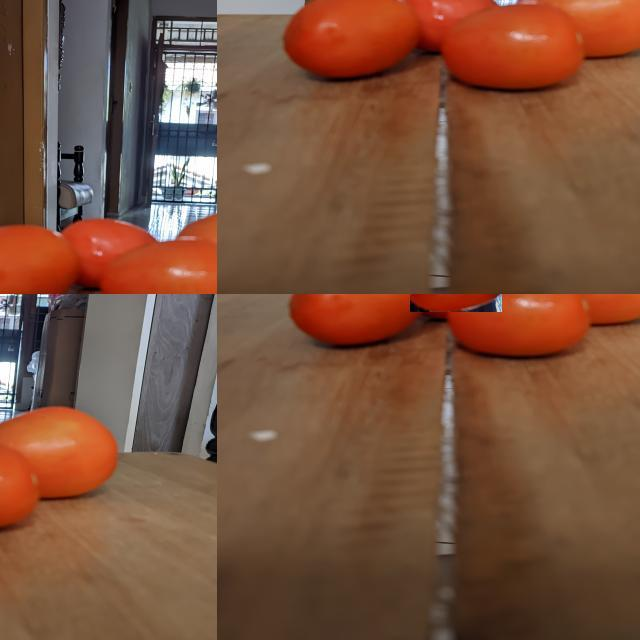Fresh Tomato: (449, 294, 592, 363), (287, 294, 424, 347), (522, 294, 640, 323), (409, 294, 502, 312)
